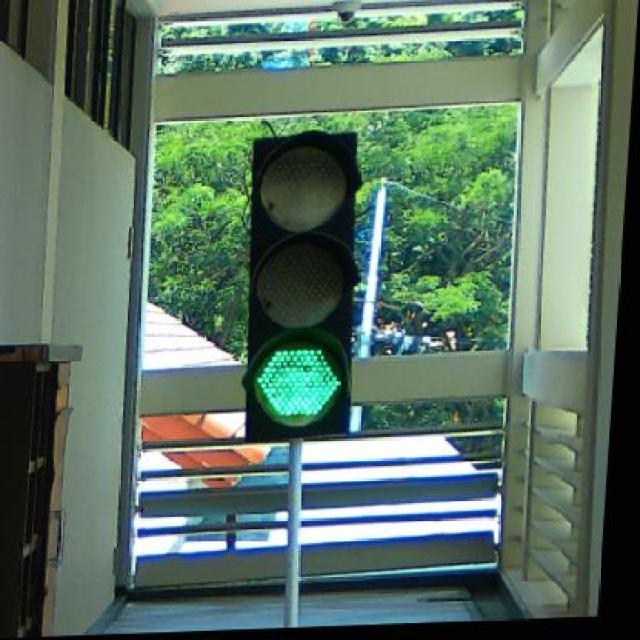traffic light: (242, 132, 362, 444)
